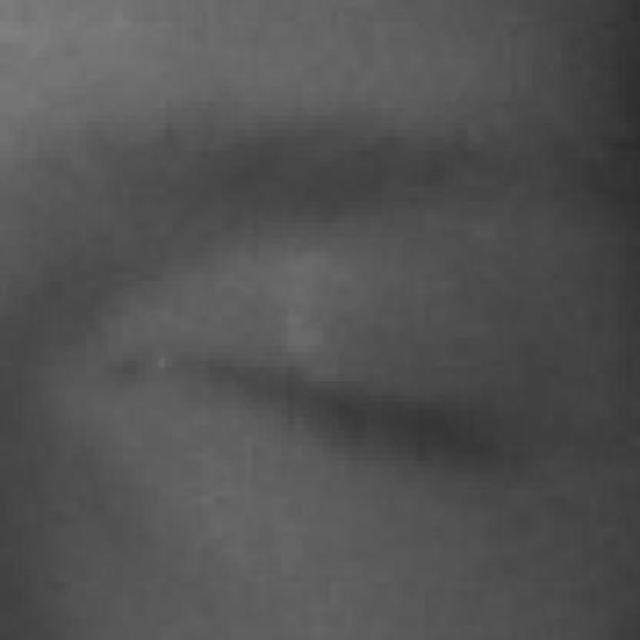drowsy: (158, 282, 492, 568)
